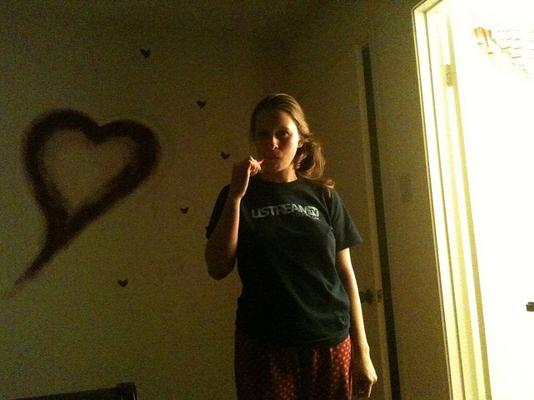person: (204, 93, 377, 400)
